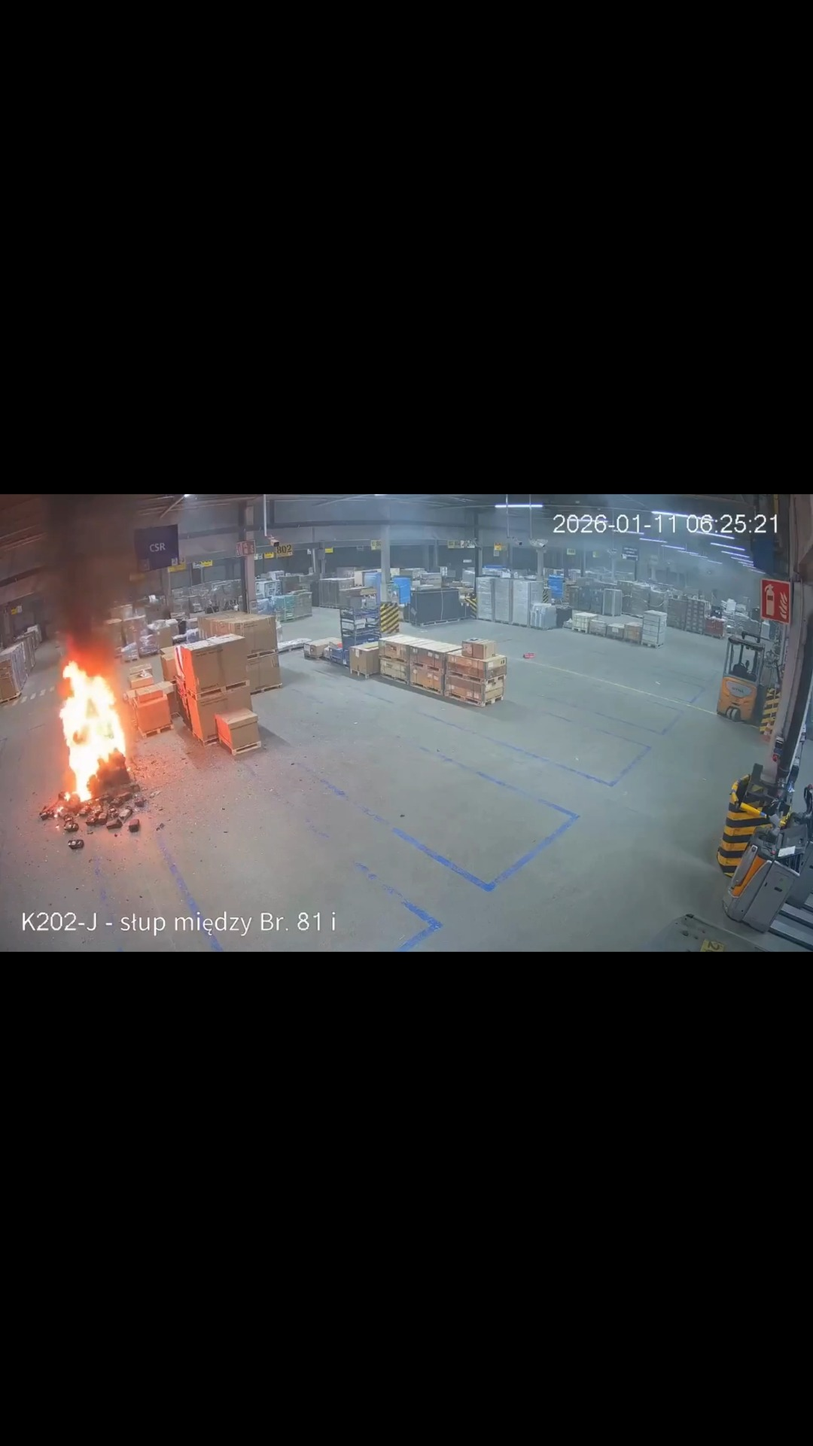fire: (41, 634, 163, 861)
